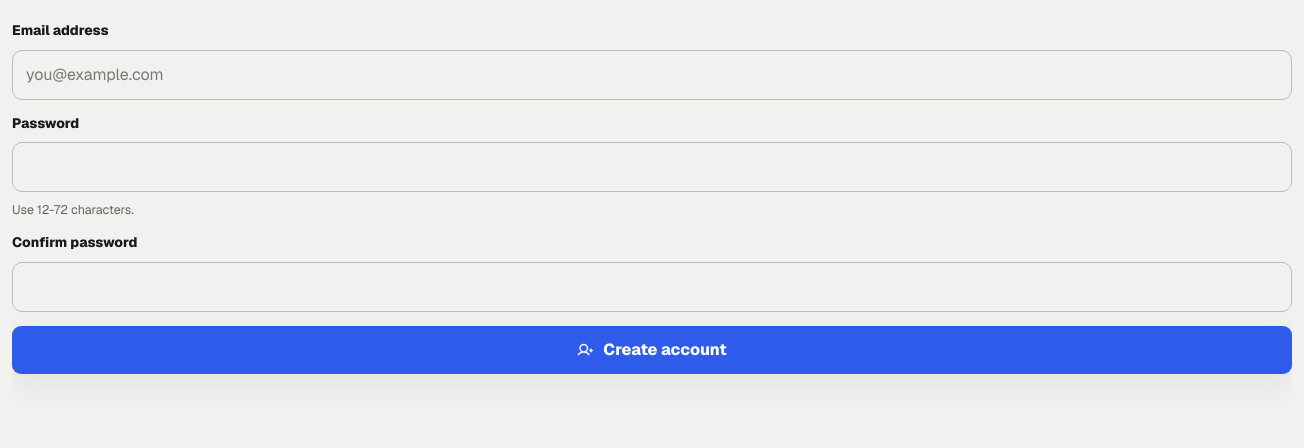
Test: PasswordSignUpForm › reports the sign-up steps without the email, password or error text
The image size is (1304, 448).
Type "student@school.edu" into the field labelled "Email address" at (652, 75), box [12,50,1292,100]
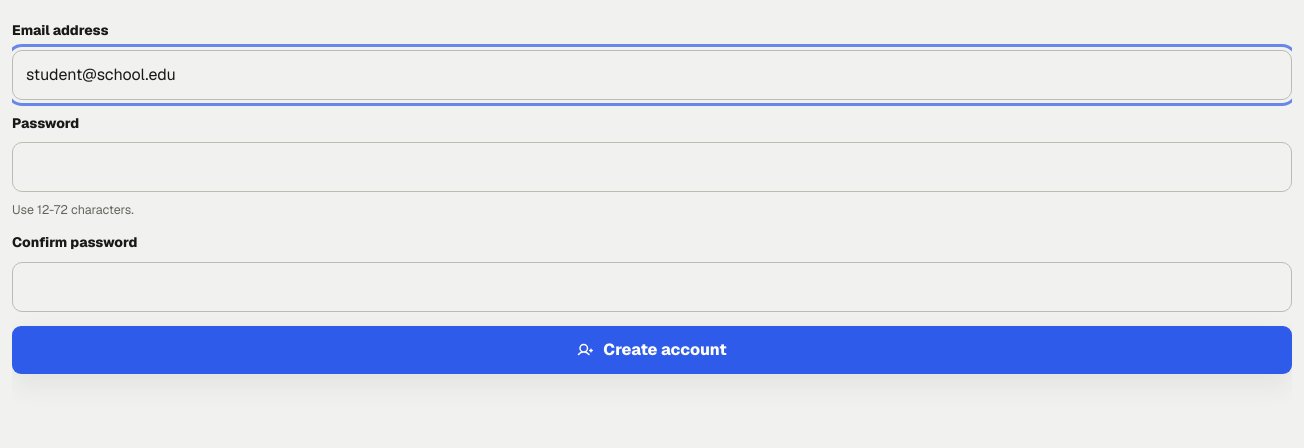
Type "three calm otters" into the password field labelled "Password" at (652, 167), box [12,142,1292,192]
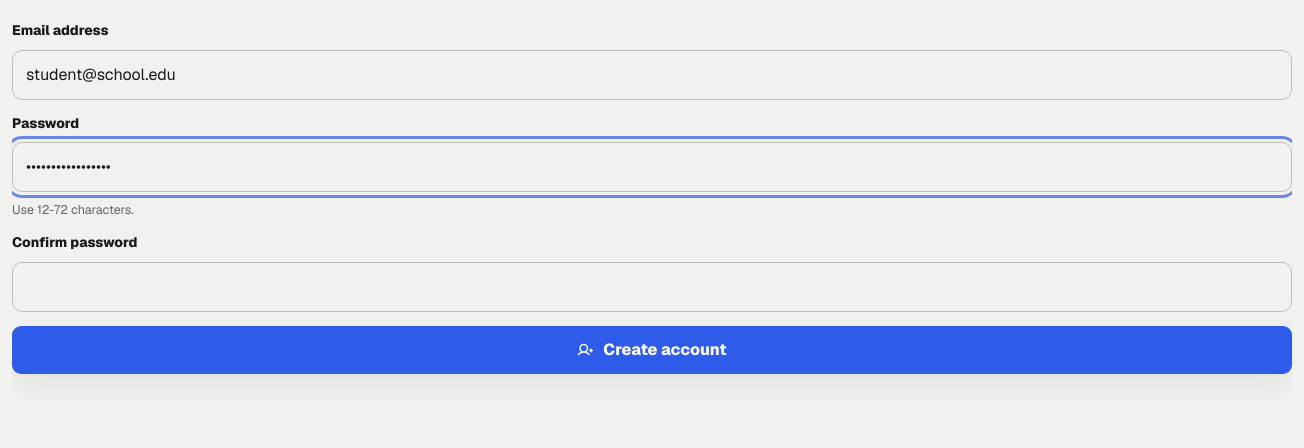
Type "three calm otters" into the password field labelled "Confirm password" at (652, 287), box [12,262,1292,312]
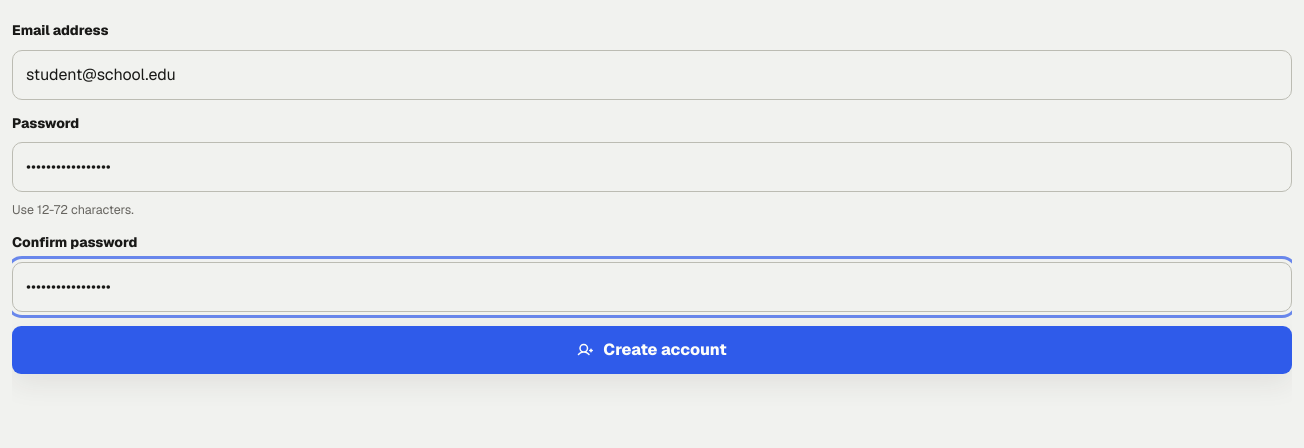
Click the button "Create account" at (652, 350), box [12,326,1292,374]
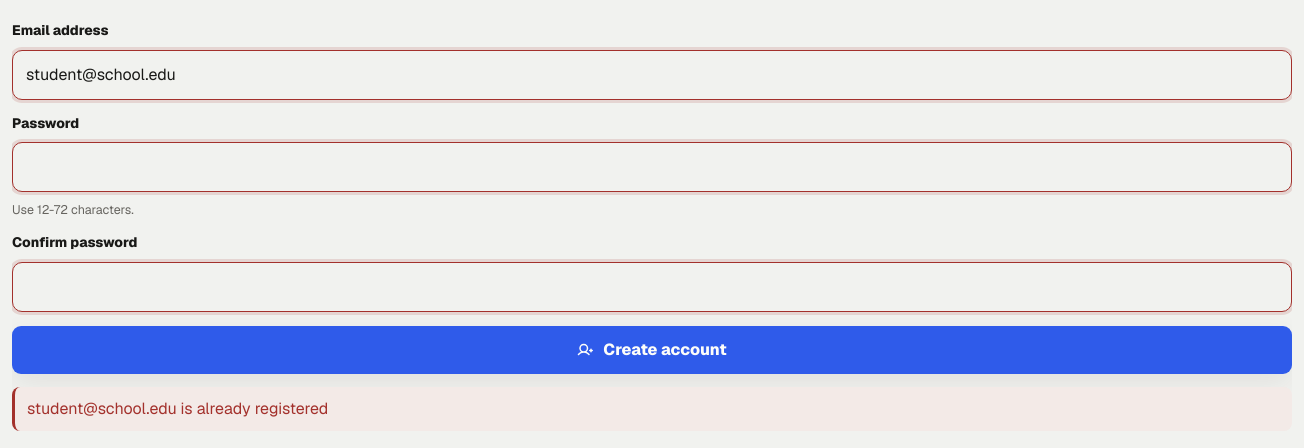
Result: the message "student@school.edu is already registered" is shown at [12,387,1292,431]
React resets the uncontrolled fields after the action, so submit the form directly the second time.
Submit the form "Create account"
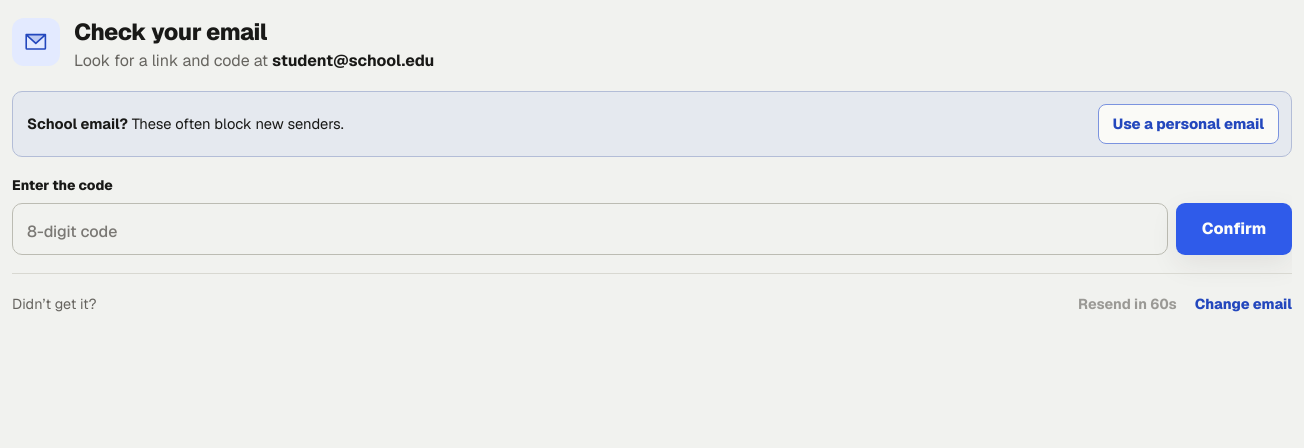
Result: the heading "Check your email" is shown at [74,17,267,47]
